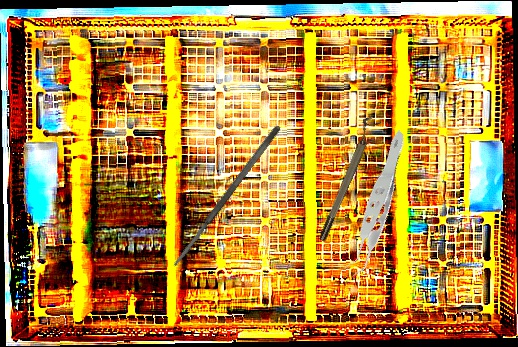Fixation Ring: (311, 114, 382, 243)
Spatula Surgical: (169, 123, 283, 270)
Tissue Forceps: (293, 128, 454, 285)
